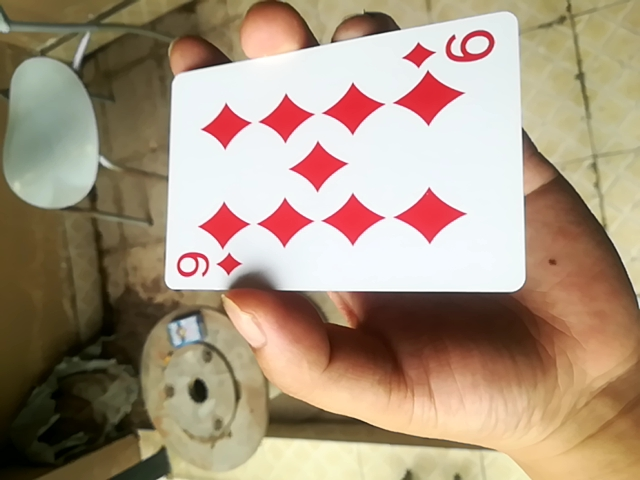fk 9: (162, 10, 524, 297)
